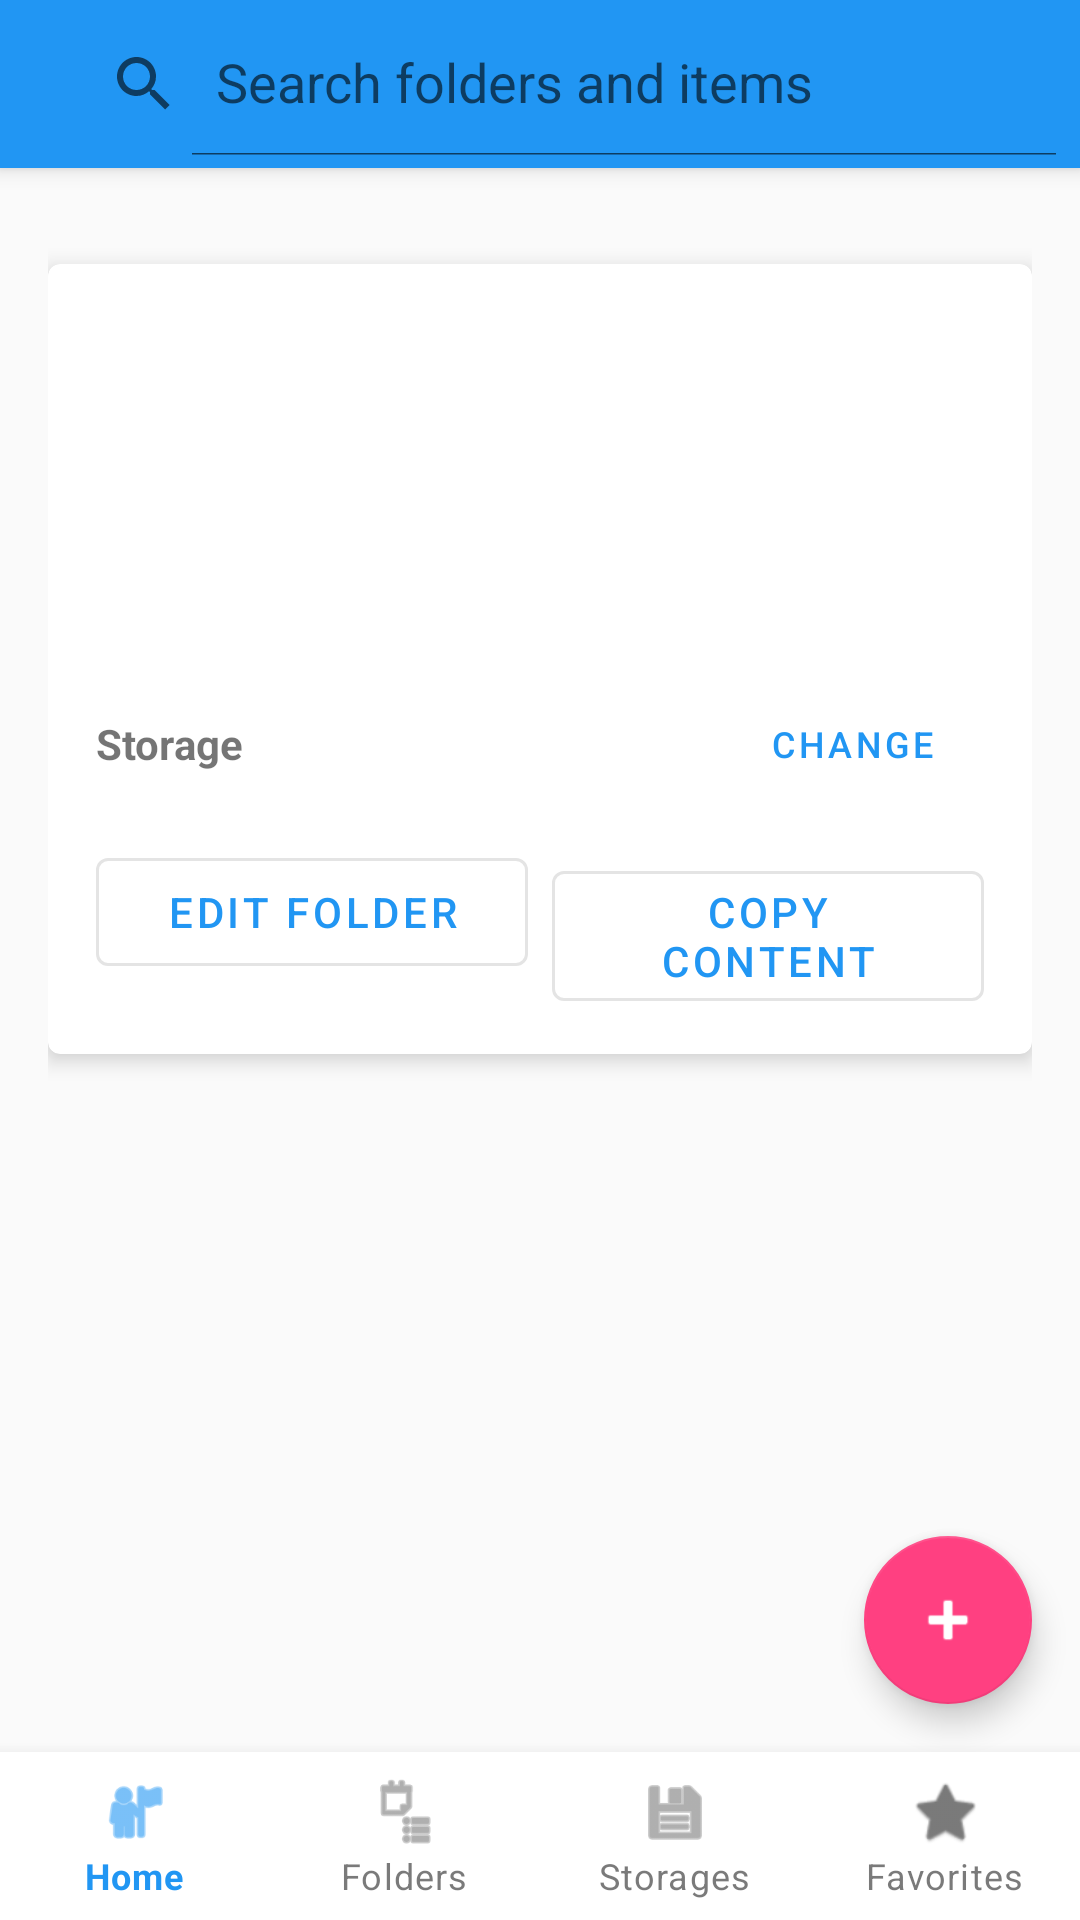

Locate icon controls on the screen. Image size 1080w x 1920h, boxes as (x1, y1, x2, y2).
Add Subfolder: (864, 1536, 1032, 1704)
